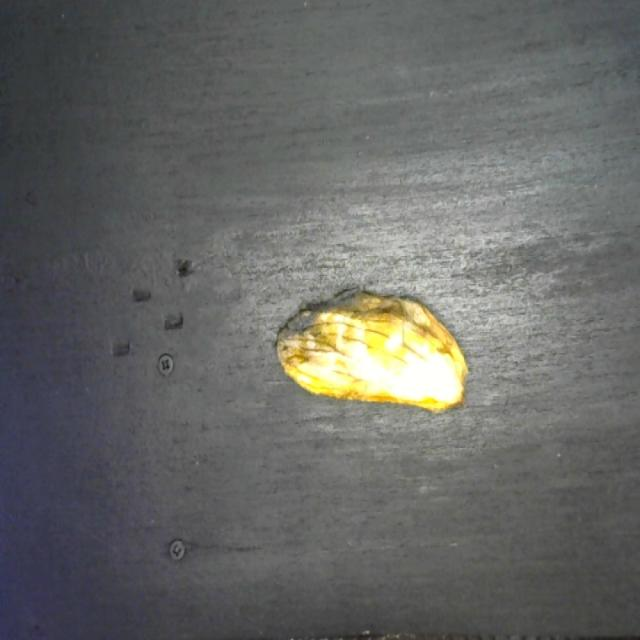biodegradable: (270, 285, 477, 421)
